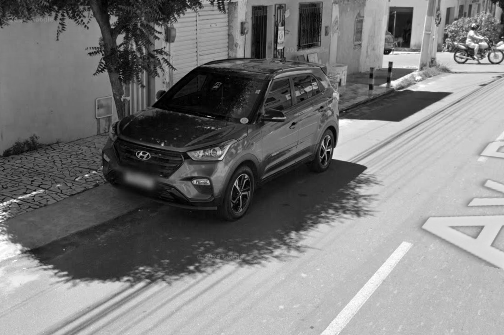car: (98, 48, 342, 228)
